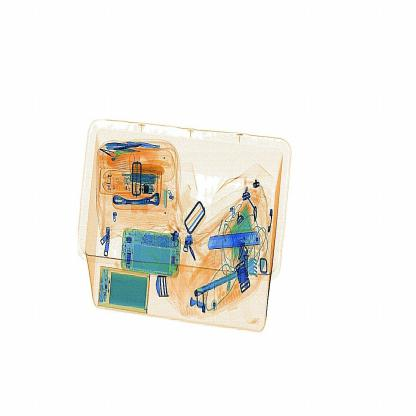pliers: (204, 224, 275, 255)
